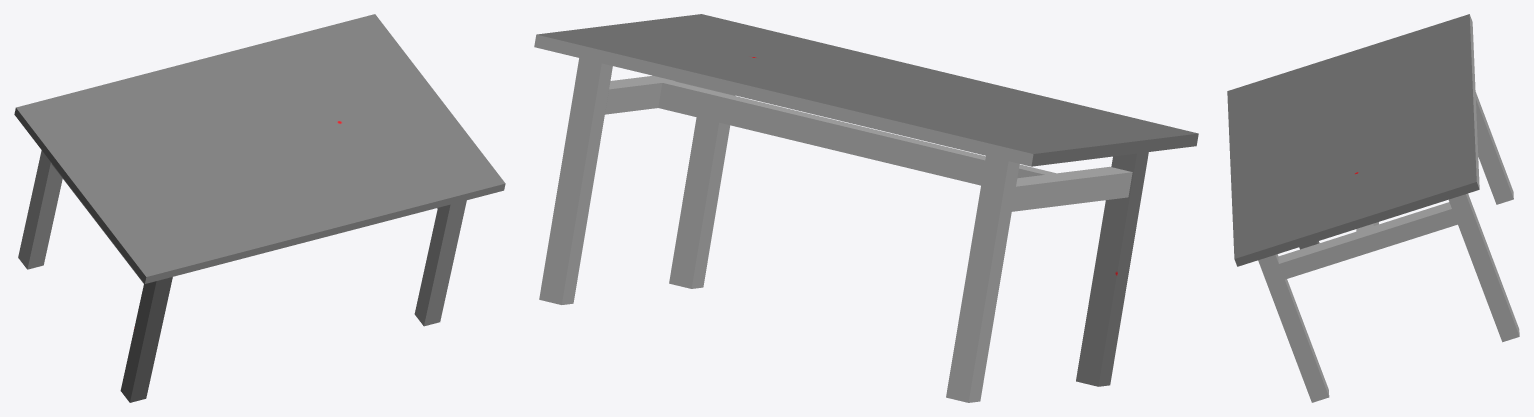
File: Table4.glb
The picture shows the model from 3 angles, left to right: view 1: azimuth 30°, elevation 25°; view 2: azimuth 150°, elevation 25°; view 3: azimuth 270°, elevation 25°; orthographic projection. The views are drawn at different scales.
Visible parts, largest first — view 1: node_id13, node_id19, node_id23, node_id17, node_id15; view 2: node_id13, node_id9, node_id17, node_id21, node_id19, node_id15, node_id23, node_id7, node_id11, node_id5; view 3: node_id13, node_id5, node_id21, node_id23, node_id17, node_id15.
Boxes of the visible parts, <box> form: node_id13: <box>14,14,505,283</box>; node_id19: <box>120,277,172,402</box>; node_id23: <box>414,200,466,326</box>; node_id17: <box>18,150,62,269</box>; node_id15: <box>145,183,505,283</box>; node_id13: <box>537,14,1198,166</box>; node_id9: <box>658,83,1044,185</box>; node_id17: <box>946,156,1019,402</box>; node_id21: <box>539,58,612,304</box>; node_id19: <box>1076,152,1148,386</box>; node_id15: <box>534,34,1033,166</box>; node_id23: <box>669,93,735,288</box>; node_id7: <box>1012,166,1132,211</box>; node_id11: <box>651,78,1068,177</box>; node_id5: <box>605,75,723,114</box>; node_id13: <box>1227,14,1479,266</box>; node_id5: <box>1278,202,1457,279</box>; node_id21: <box>1448,193,1519,342</box>; node_id23: <box>1258,254,1329,402</box>; node_id17: <box>1475,92,1513,204</box>; node_id15: <box>1469,14,1479,188</box>.
Bounding box in the file's own units: 0.3878 × 0.2445 × 0.2784.
10 materials, 2 textured.
